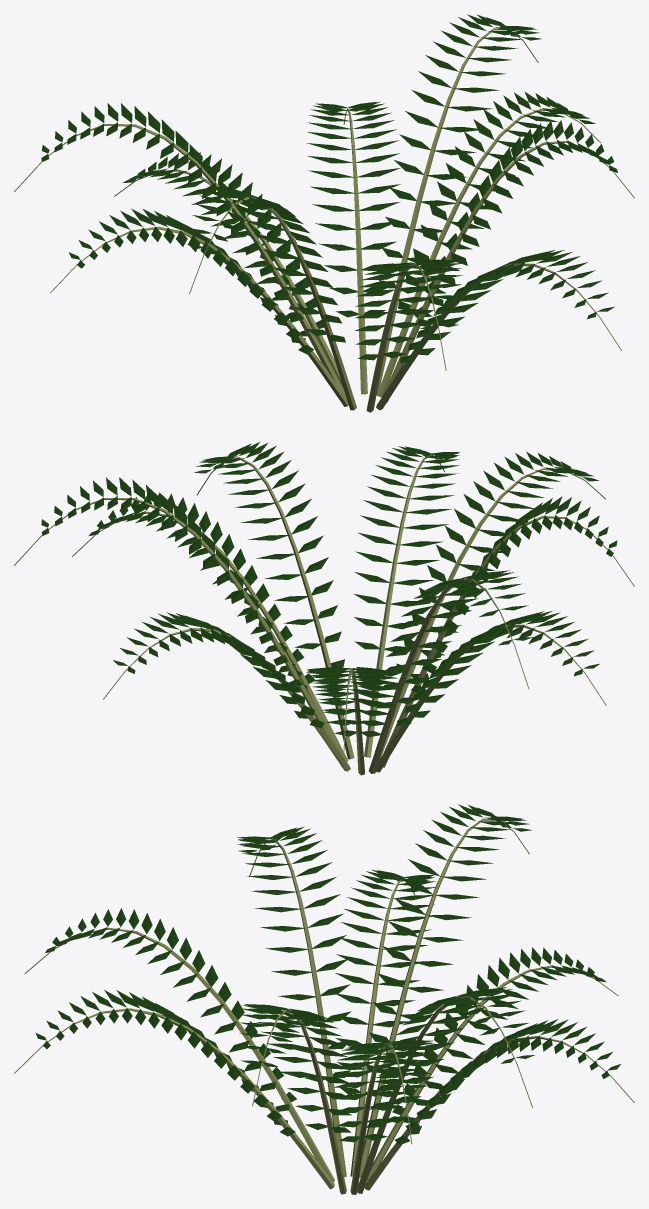
The model's file is ShadeFern_Clump_01_LOD0.fbx.
3 renders of one model, top to bottom at view 1: azimuth 30°, elevation 25°; view 2: azimuth 150°, elevation 25°; view 3: azimuth 270°, elevation 25°, orthographic. The views are drawn at different scales.
Visible parts, largest first — view 1: ShadeFern_Clump_01_LOD0_Mesh; view 2: ShadeFern_Clump_01_LOD0_Mesh; view 3: ShadeFern_Clump_01_LOD0_Mesh.
Boxes of the visible parts, x1,y1,x2,y2 form: ShadeFern_Clump_01_LOD0_Mesh: (14,14,634,412); ShadeFern_Clump_01_LOD0_Mesh: (14,442,634,775); ShadeFern_Clump_01_LOD0_Mesh: (14,804,634,1194).
Size of the model in its own units: 116 by 56.9 by 115.
